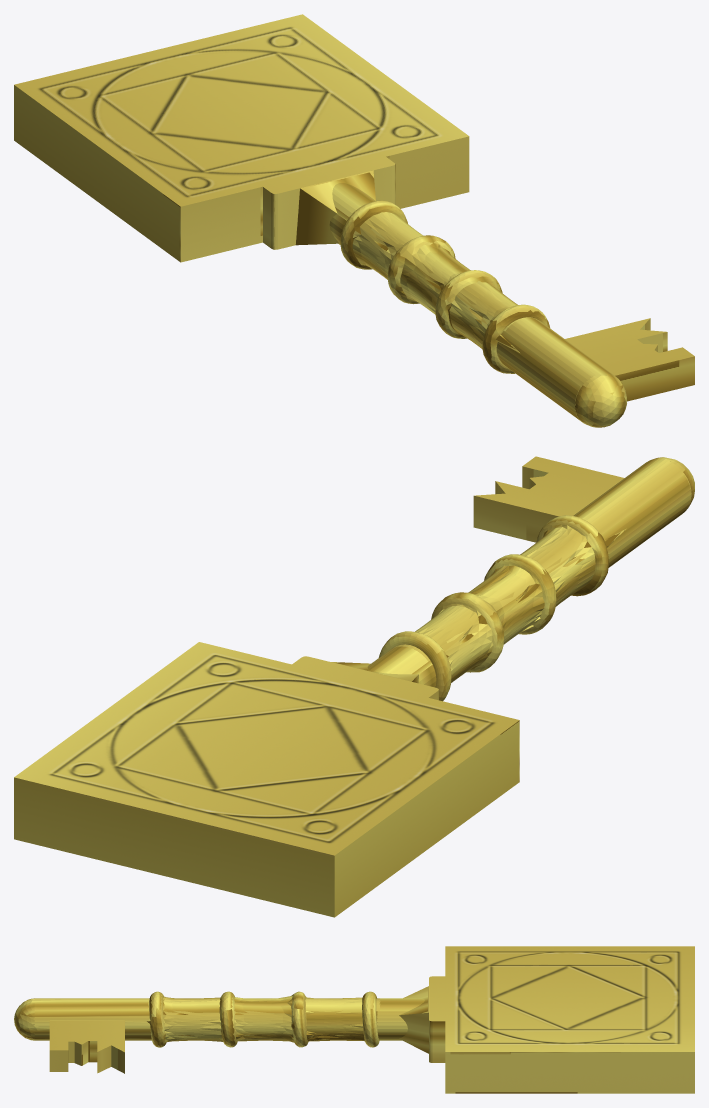
File: SolomonKeyTex1.obj
3 views of the same model, one above another, from view 1: azimuth 30°, elevation 25°; view 2: azimuth 150°, elevation 25°; view 3: azimuth 270°, elevation 25° (orthographic). The views are drawn at different scales.
Parts seen in each view (by area): view 1: SolomonKeyFormZ4; view 2: SolomonKeyFormZ4; view 3: SolomonKeyFormZ4.
Boxes of the visible parts, bbox=[...] form: SolomonKeyFormZ4: bbox=[14, 14, 694, 427]; SolomonKeyFormZ4: bbox=[14, 456, 694, 917]; SolomonKeyFormZ4: bbox=[14, 946, 694, 1093].
Size of the model in its own units: 7.04 by 1.58 by 19.21.
1 material, 1 textured.
